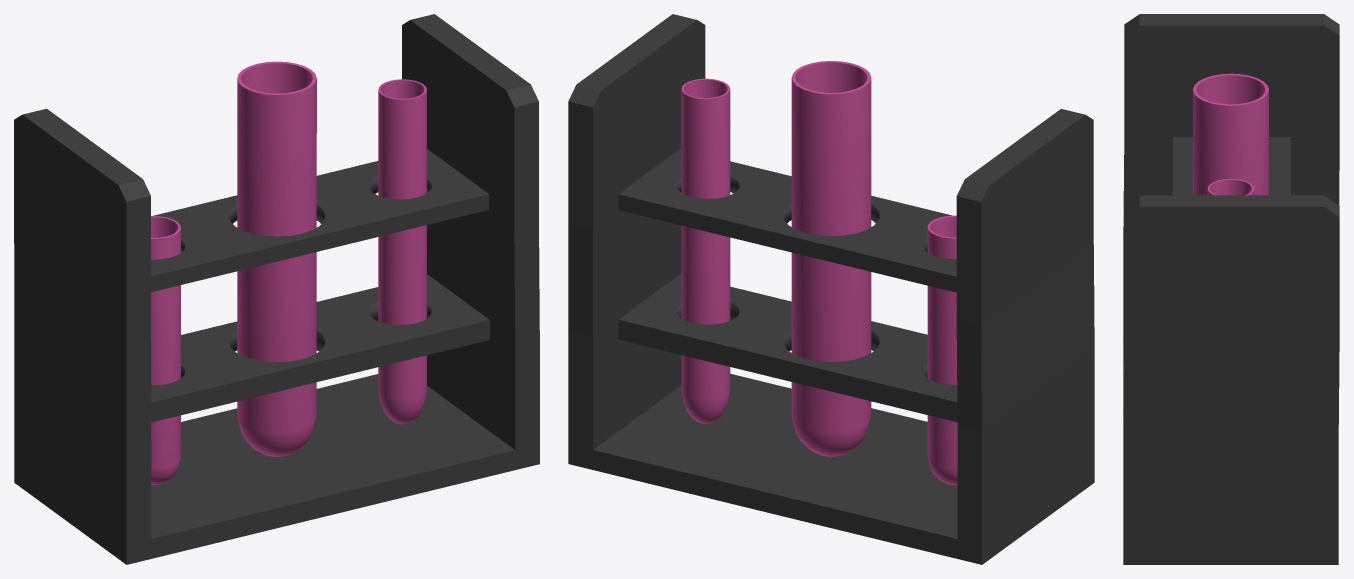
File: Tubos de ensaio.fbx
3 renders of one model, left to right at view 1: azimuth 30°, elevation 25°; view 2: azimuth 150°, elevation 25°; view 3: azimuth 270°, elevation 25°, orthographic. The views are drawn at different scales.
Parts seen in each view (by area): view 1: Cube.002, Sphere.005, Sphere.003, Sphere.004; view 2: Cube.002, Sphere.005, Sphere.003, Sphere.004; view 3: Cube.002, Sphere.005, Sphere.003.
Part boxes in pixels (bbox=[...]): Cube.002: bbox=[14, 14, 539, 564]; Sphere.005: bbox=[237, 61, 316, 456]; Sphere.003: bbox=[378, 79, 426, 424]; Sphere.004: bbox=[151, 216, 180, 484]; Cube.002: bbox=[568, 14, 1094, 564]; Sphere.005: bbox=[791, 61, 871, 456]; Sphere.003: bbox=[681, 78, 730, 423]; Sphere.004: bbox=[927, 215, 957, 484]; Cube.002: bbox=[1123, 14, 1339, 564]; Sphere.005: bbox=[1193, 73, 1268, 195]; Sphere.003: bbox=[1207, 178, 1254, 195].
Bounding box in the file's own units: 35.47 × 32.41 × 16.78.
